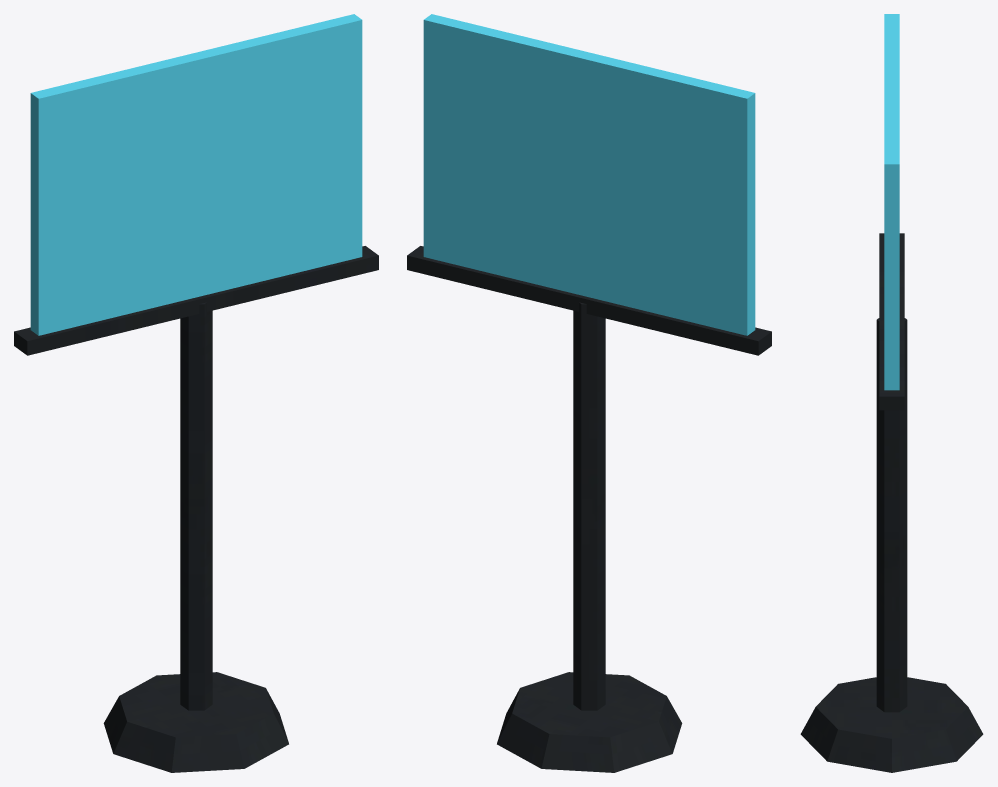
File: holo_panel_01.glb
3 views of the same model, side by side, from view 1: azimuth 30°, elevation 25°; view 2: azimuth 150°, elevation 25°; view 3: azimuth 270°, elevation 25° (orthographic). The views are drawn at different scales.
Visible parts, largest first — view 1: holo_panel_01; view 2: holo_panel_01; view 3: holo_panel_01.
Boxes of the visible parts, x1=… form: holo_panel_01: x1=14, y1=14, x2=378, y2=772; holo_panel_01: x1=407, y1=14, x2=771, y2=772; holo_panel_01: x1=800, y1=14, x2=983, y2=772.
Bounding box in the file's own units: 0.7601 × 1.4 × 0.36.
2 materials, 1 textured.
